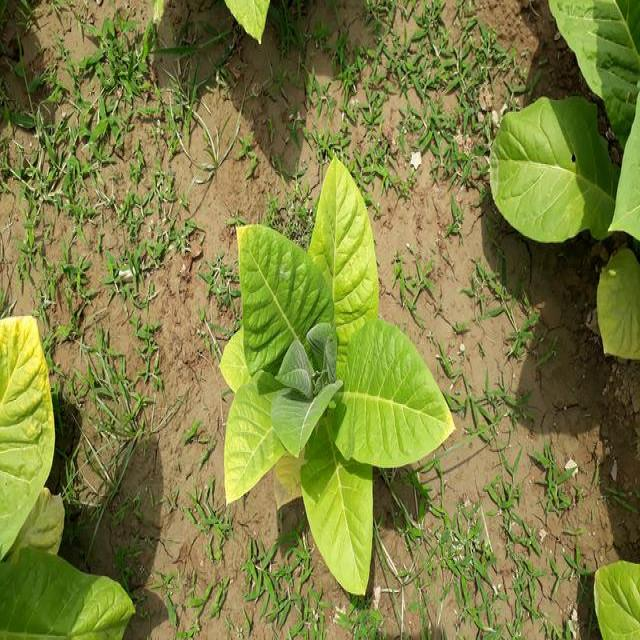crop: (222, 165, 432, 589), (502, 0, 640, 354), (7, 554, 132, 640), (7, 328, 51, 550)
